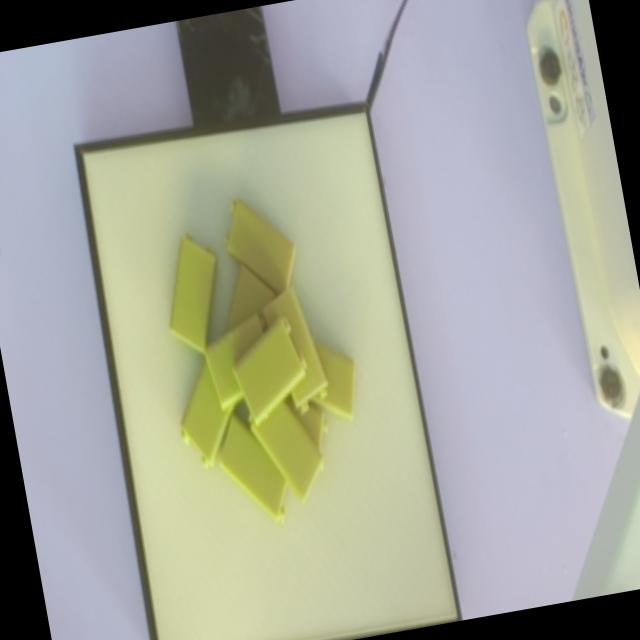bateria: (233, 315, 307, 425), (224, 196, 294, 294), (170, 234, 217, 353)
mesa: (73, 100, 462, 640)
